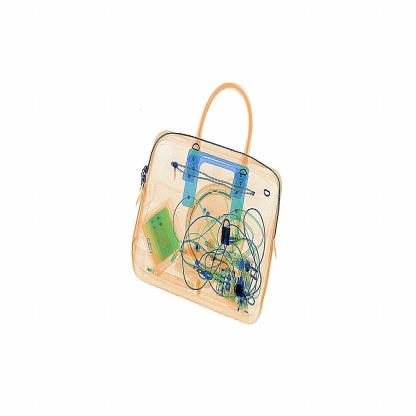scissors: (231, 280, 245, 304)
